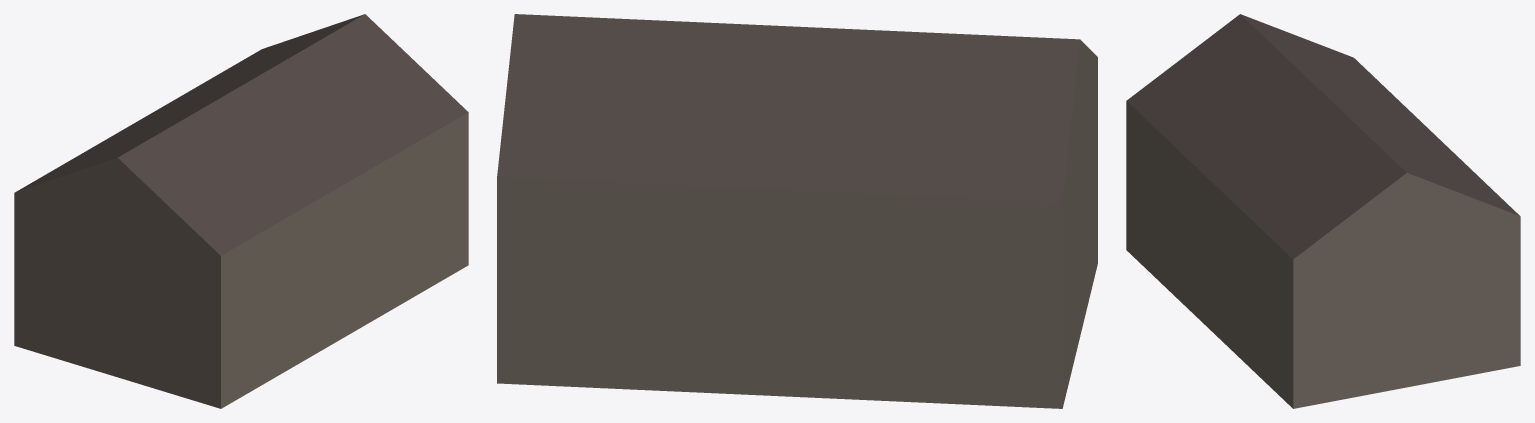
3 views of the same model, side by side, from view 1: azimuth 30°, elevation 25°; view 2: azimuth 150°, elevation 25°; view 3: azimuth 270°, elevation 25° (orthographic). The views are drawn at different scales.
Visible parts, largest first — view 1: HP-w859088460; view 2: HP-w859088460; view 3: HP-w859088460.
Part boxes in pixels (bbox=[...]): HP-w859088460: bbox=[14, 14, 468, 408]; HP-w859088460: bbox=[497, 14, 1097, 408]; HP-w859088460: bbox=[1126, 14, 1520, 408].
Size of the model in its own units: 26.07 by 12.93 by 21.51.
